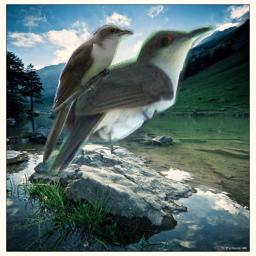Cuckoo: (47, 25, 217, 177), (38, 23, 134, 167)
